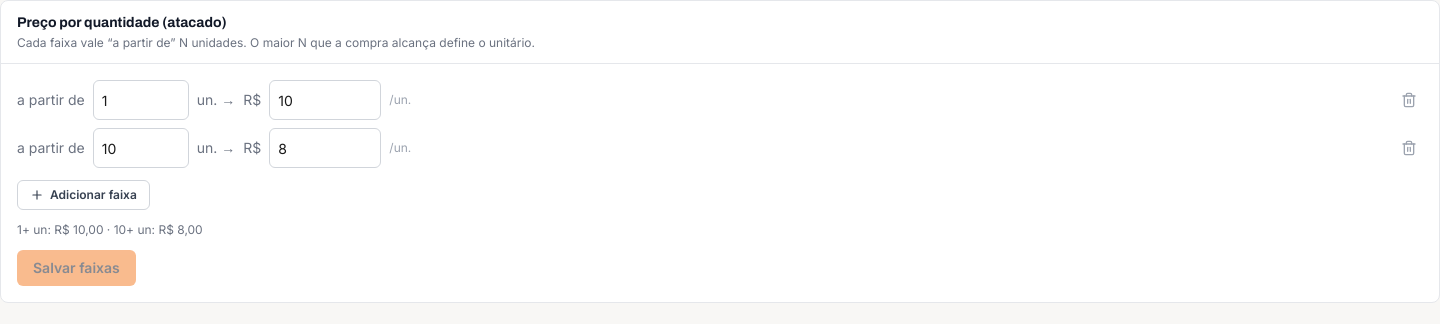
PriceTiersManager › barra faixa maior mais cara que a menor (não salva)
The width and height of the screenshot is (1440, 324).
Note: Torna a faixa de 10+ MAIS cara (12) que a de 1+ (10) → inválido.
Step 1. Replace the text in the field named "preço unitário da faixa 2" with "12" → (325, 148), box [269,128,381,168]
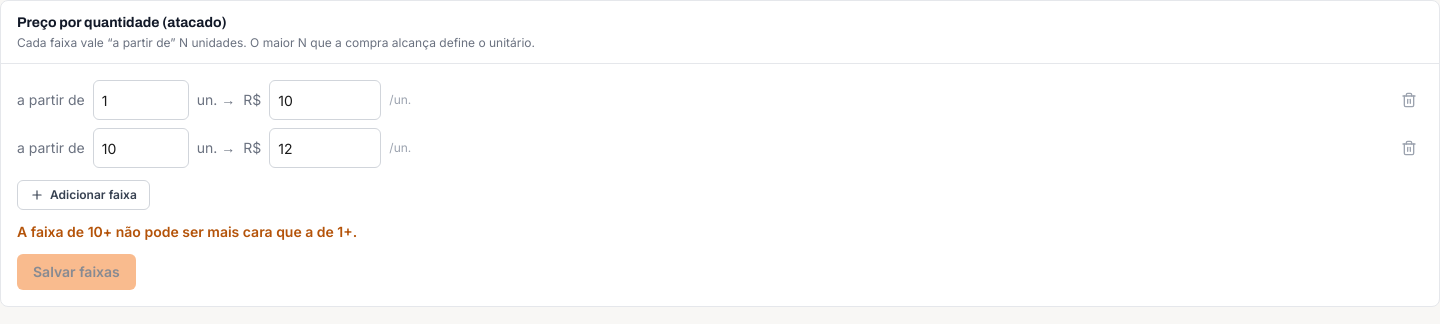
Expected: the button "Salvar faixas" is disabled, [17,254,136,290]
Expected: the text "A faixa de 10+ não pode ser mais cara que a de 1+." is shown, [17,223,357,240]
